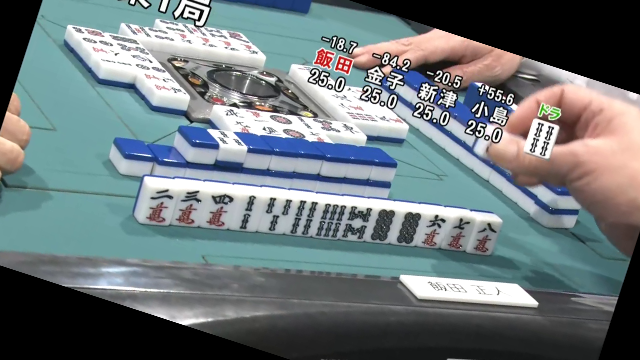Tehai: (135, 173, 499, 253)
